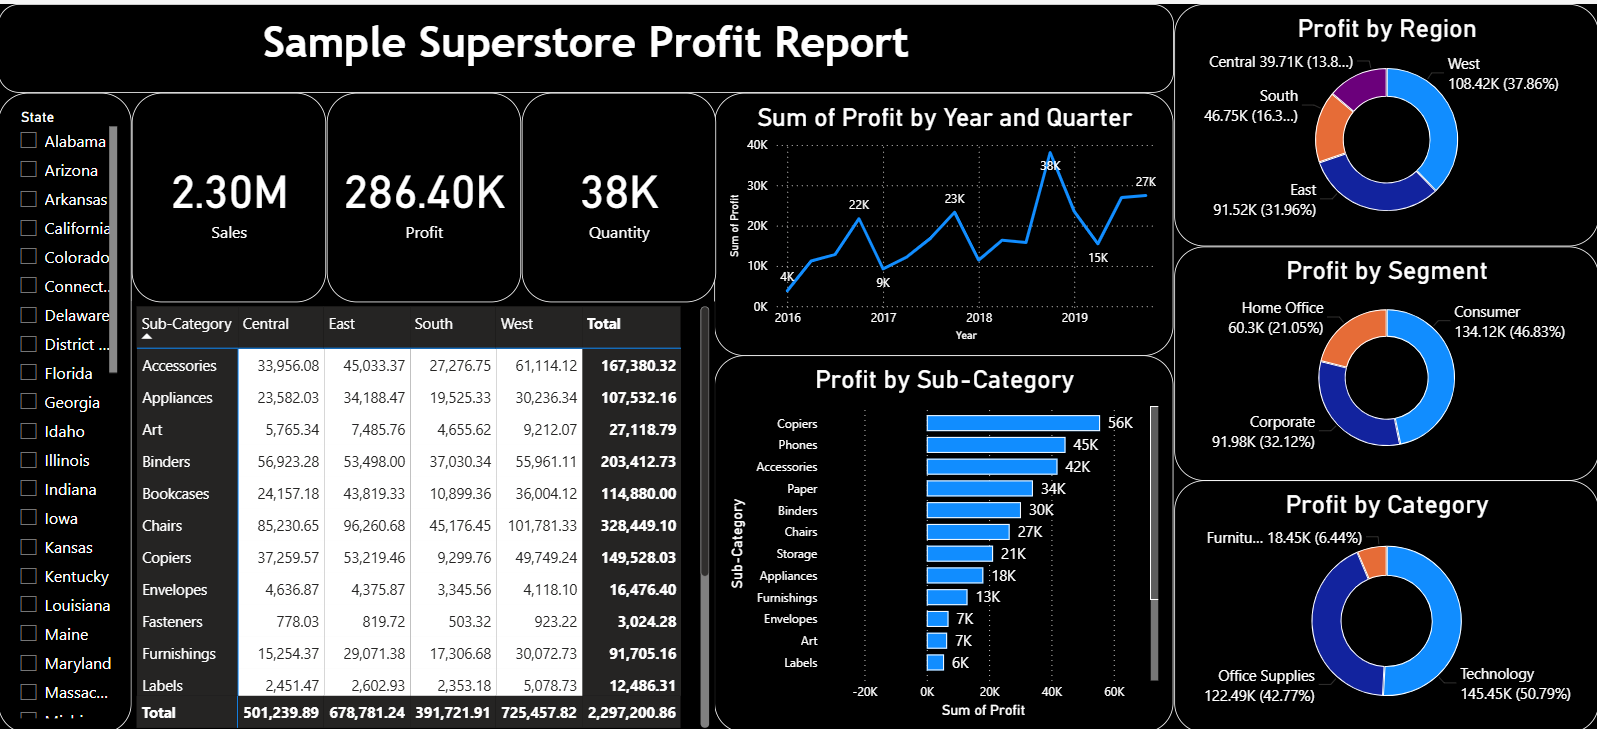

This screenshot's page, from the dashboard's own definition file:
{"tool":"powerbi","page":{"name":"Page 1","canvas":[1600,729],"ordinal":0},"visuals":[{"type":"textbox","box":[0,0,1175.9,88.7],"z":0},{"type":"donutChart","title":"Profit by Category","fields":{"Category":["Orders.Category"],"Y":["Sum(Orders.Profit)"]},"box":[1175.9,476.8,424.4,252.9],"z":1000},{"type":"donutChart","title":"Profit by Segment","fields":{"Y":["Sum(Orders.Profit)"],"Category":["Orders.Segment"]},"box":[1175.9,242.7,424.4,234],"z":2000},{"type":"donutChart","title":"Profit by Region","fields":{"Y":["Sum(Orders.Profit)"],"Category":["Orders.Region"]},"box":[1175.9,0,424.4,242.7],"z":3000},{"type":"barChart","title":"Profit by Sub-Category","fields":{"Category":["Orders.Sub-Category"],"Y":["Sum(Orders.Profit)"]},"box":[716.6,351.8,459.3,377.9],"z":4000},{"type":"lineChart","fields":{"Y":["Sum(Orders.Profit)"],"Category":["Orders.Order Date.Variation.Date Hierarchy.Year","Orders.Order Date.Variation.Date Hierarchy.Quarter","Orders.Order Date.Variation.Date Hierarchy.Month","Orders.Order Date.Variation.Date Hierarchy.Day"]},"box":[716.6,88.7,459.3,263.1],"z":4001},{"type":"slicer","fields":{"Values":["Orders.State"]},"box":[0,88.7,133.7,641],"z":4002},{"type":"pivotTable","fields":{"Rows":["Orders.Sub-Category"],"Columns":["Orders.Region"],"Values":["Sum(Orders.Sales)"]},"box":[133.7,298,582.9,431.7],"z":4003},{"type":"card","fields":{"Values":["Sum(Orders.Sales)"]},"box":[133.7,88.7,194.8,209.3],"z":4004},{"type":"card","fields":{"Values":["Sum(Orders.Profit)"]},"box":[328.5,88.7,194.8,209.3],"z":4005},{"type":"card","fields":{"Values":["Sum(Orders.Quantity)"]},"box":[523.3,88.7,194.8,209.3],"z":4006}]}

Visuals, with their boxes in screenshot pixels (x1, y1, x2, y2), scaled from the page's 1600x729 canvas onto the 1597x729 screenshot:
textbox: detection(0, 0, 1174, 89)
"Profit by Category" donutChart: detection(1174, 477, 1596, 728)
"Profit by Segment" donutChart: detection(1174, 243, 1596, 477)
"Profit by Region" donutChart: detection(1174, 0, 1596, 243)
"Profit by Sub-Category" barChart: detection(715, 352, 1174, 728)
lineChart - Sum(Orders.Profit) x Orders.Order Date.Variation.Date Hierarchy.Year: detection(715, 89, 1174, 352)
slicer - Orders.State: detection(0, 89, 133, 728)
pivotTable - Orders.Sub-Category x Orders.Region: detection(133, 298, 715, 728)
card - Sum(Orders.Sales): detection(133, 89, 328, 298)
card - Sum(Orders.Profit): detection(328, 89, 522, 298)
card - Sum(Orders.Quantity): detection(522, 89, 717, 298)
